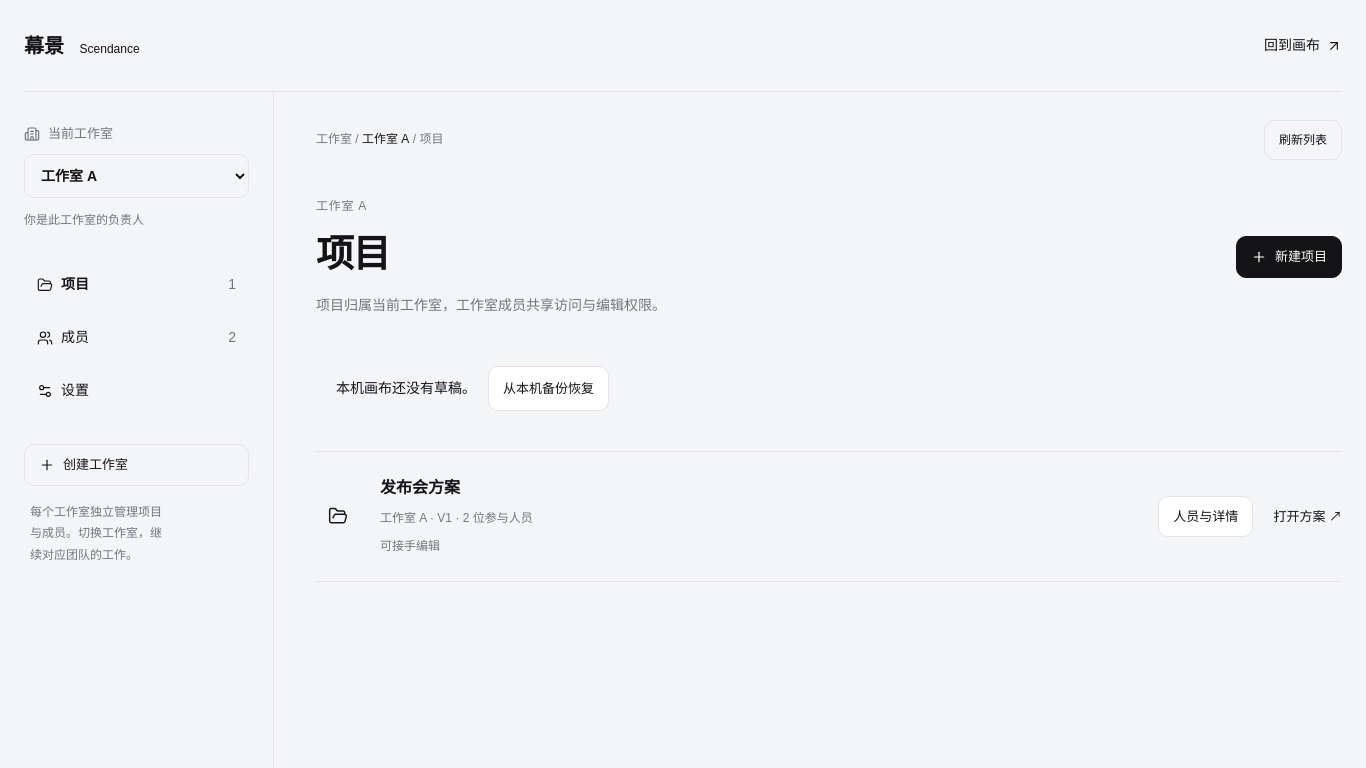
Test case: workspace management › shows project ownership and inherited participants without mixing workspaces
Click the button "发布会方案".
click(420, 488)  # box [380, 476, 460, 500]
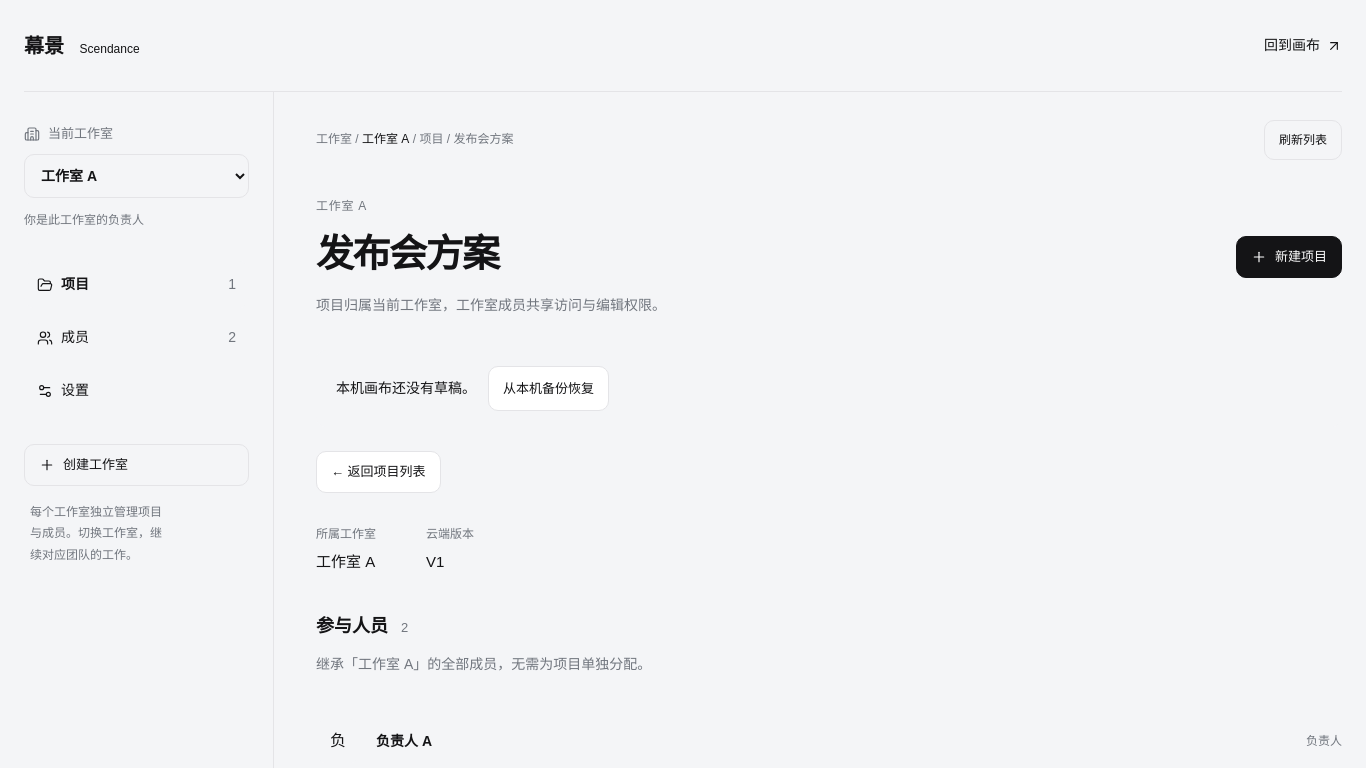
Expected: the text "其他团队的方案" is not shown
Expected: the text "所属工作室" is shown, [316, 525, 376, 543]
Select "工作室 B" in the dropdown labelled "工作室" at (136,176), box [24, 154, 249, 198]
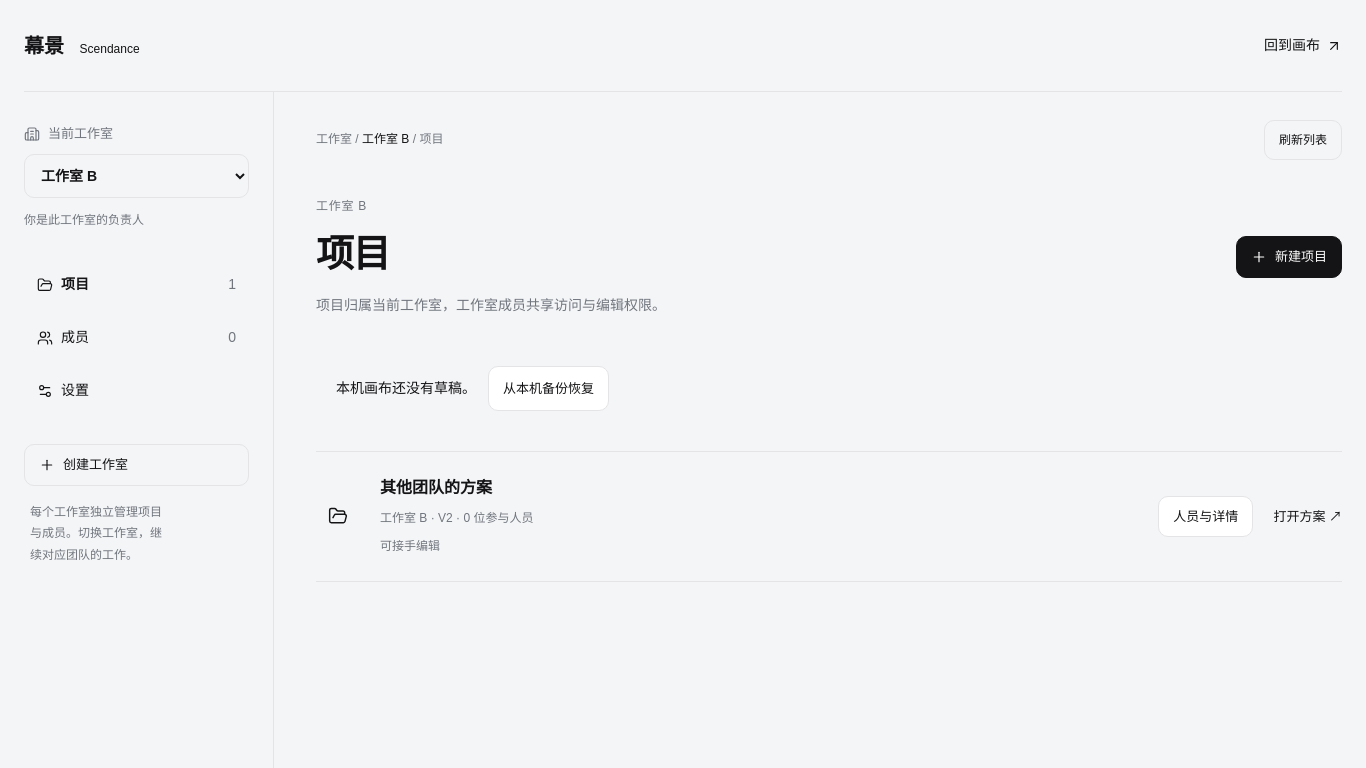
Expected: the button "其他团队的方案" is shown, [380, 476, 492, 500]
Expected: the text "发布会方案" is gone
